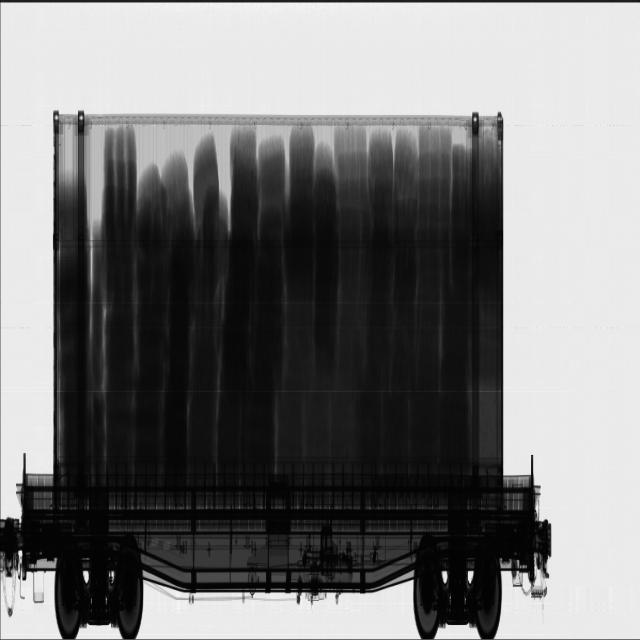clothes: (47, 122, 424, 465)
